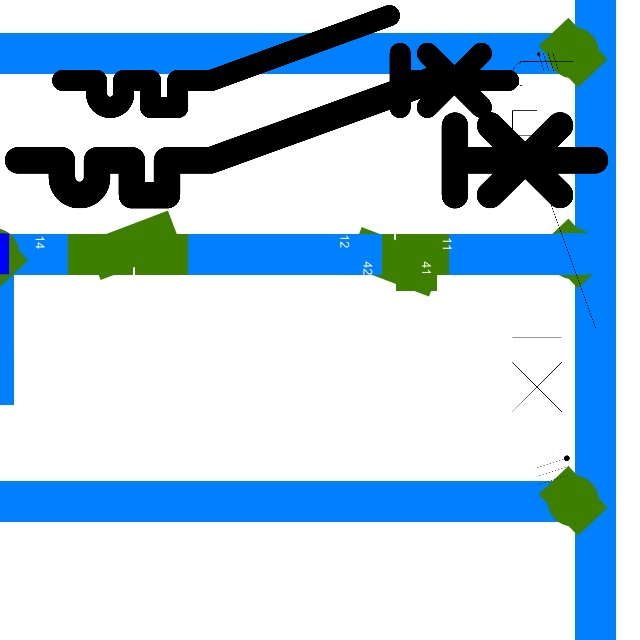interruptor_termomagnetico: (3, 62, 610, 210), (51, 4, 519, 119), (502, 20, 606, 447)
